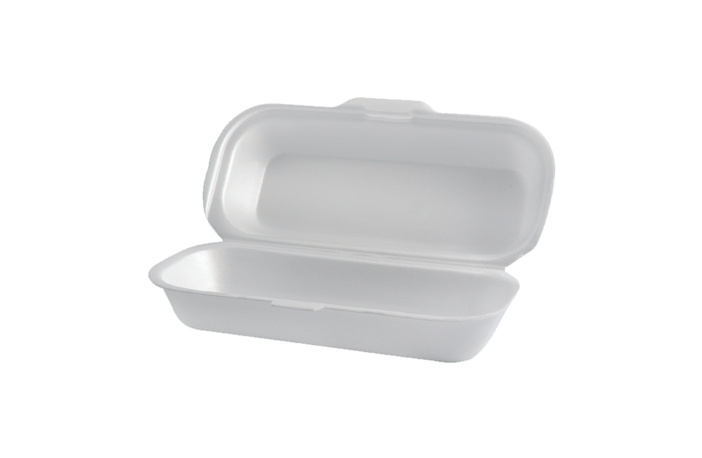Foam Box: (144, 91, 559, 366)
